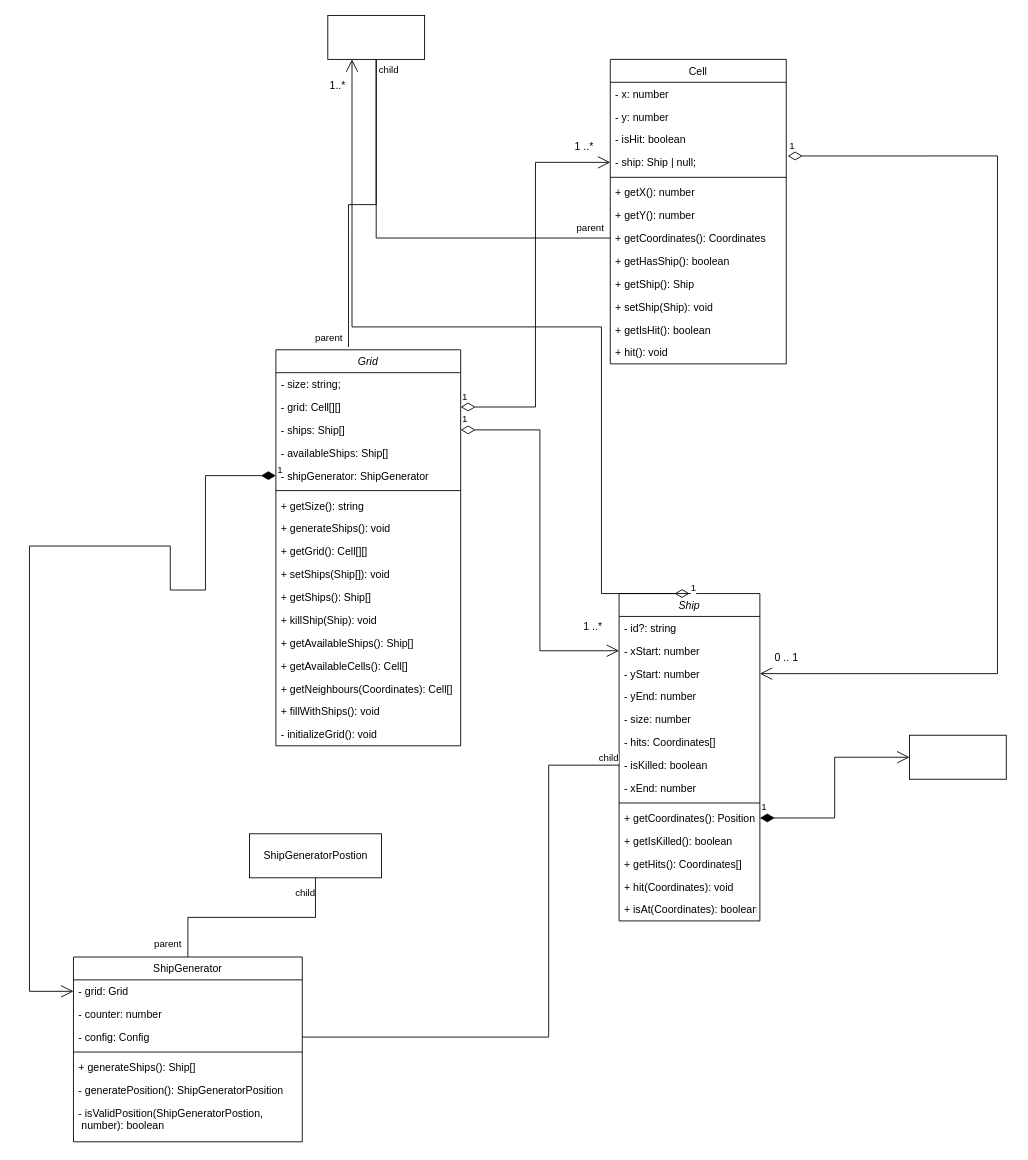
Image size: 1028x1160. Some labels were removed from this diagram. Each missing label, with the centre of its shape:
"Coordinates" goes at point (376, 37).
"Position" goes at point (957, 756).
